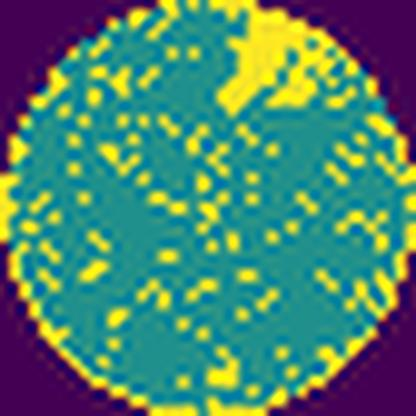Edge-Loc: (192, 0, 371, 120)
